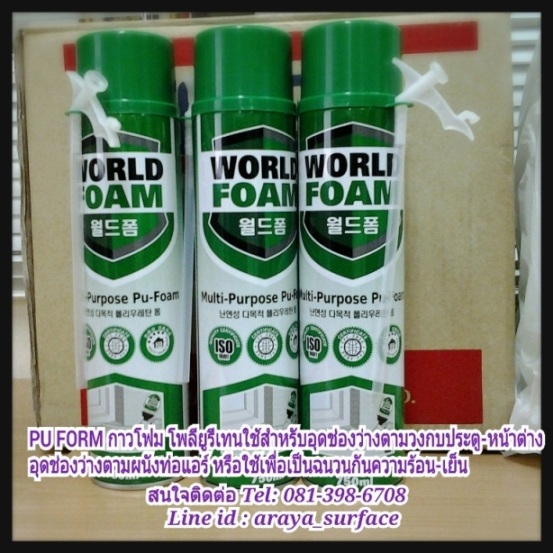Aerosol_cans: (293, 16, 407, 424), (185, 22, 301, 422), (74, 27, 189, 420)
